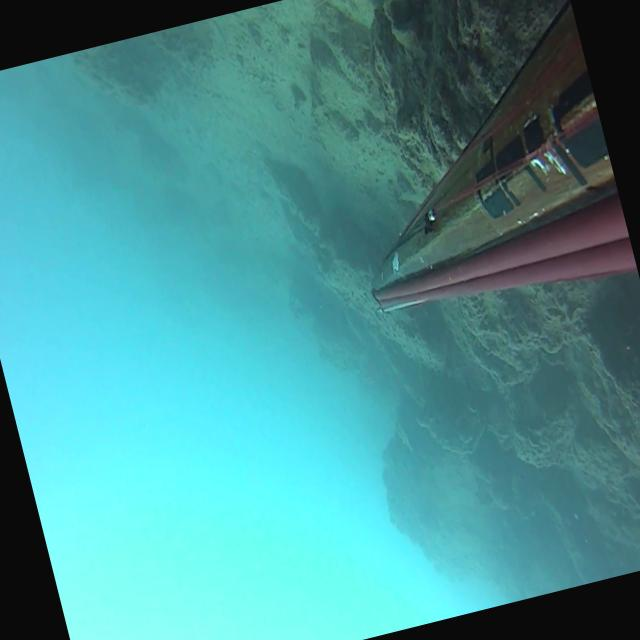Balon Baligi: (394, 418, 413, 454)
